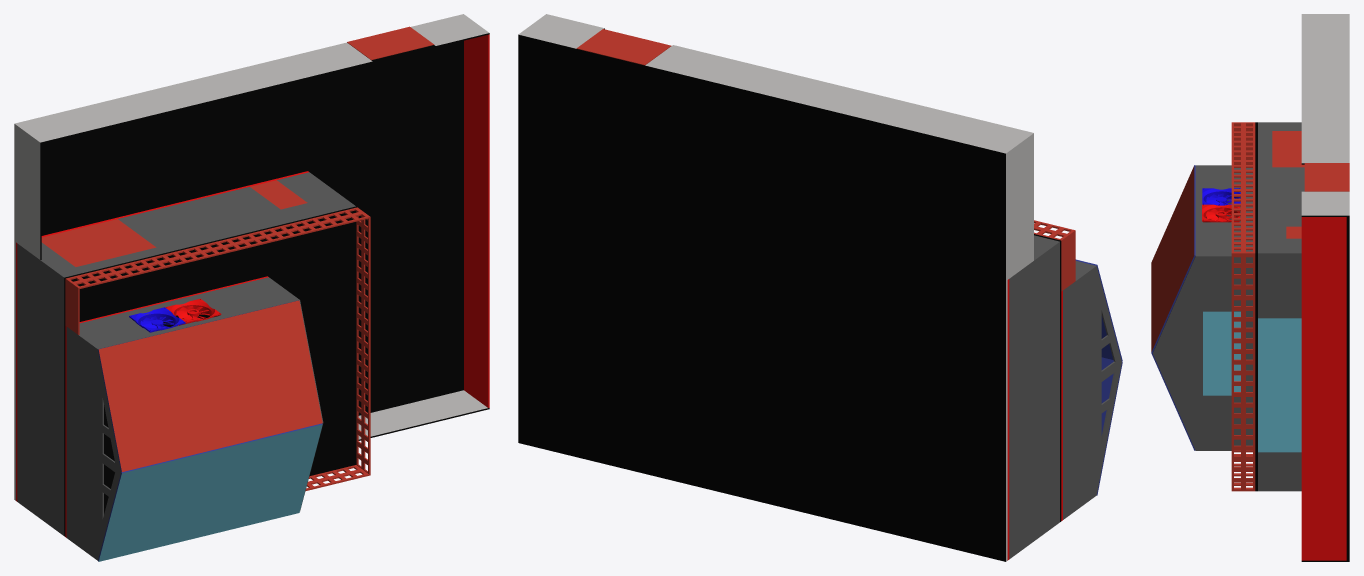
Rendered from smart+home+v2.obj.
3 views of the same model, side by side, from view 1: azimuth 30°, elevation 25°; view 2: azimuth 150°, elevation 25°; view 3: azimuth 270°, elevation 25° (orthographic). The views are drawn at different scales.
Parts seen in each view (by area): view 1: Body1:19, Body1:15, Body1:11, Body1:16, Body3, Body1:18, Body1:1, Body2:3, Body2:2, Body1:10, Body1:9, Body2 (+8 smaller); view 2: Body1:19, Body3, Body2:3, Body1:5, Body2:6, Body1:12, Body1:17; view 3: Body1:18, Body1:19, Body1:7, Body1:13, Body1:1, Body1:9, Body1:4, Body1:15, Body2:2, Body1:14, Body1:10, Body1:6 (+9 smaller).
Part boxes in pixels (x1,y1,x2,y2): Body1:19: [14, 14, 489, 500]; Body1:15: [98, 300, 322, 472]; Body1:11: [64, 206, 356, 536]; Body1:16: [98, 423, 322, 561]; Body3: [17, 243, 64, 535]; Body1:18: [464, 34, 489, 407]; Body1:1: [41, 172, 354, 277]; Body2:3: [66, 328, 97, 559]; Body2:2: [66, 277, 299, 350]; Body1:10: [65, 207, 368, 289]; Body1:9: [356, 207, 370, 475]; Body2: [41, 219, 156, 266]; Body1:19: [518, 14, 1033, 561]; Body3: [1009, 241, 1059, 559]; Body2:3: [1063, 267, 1096, 518]; Body1:5: [1096, 267, 1121, 494]; Body2:6: [576, 29, 671, 65]; Body1:12: [1007, 279, 1009, 560]; Body1:17: [1061, 232, 1075, 291]; Body1:18: [1301, 217, 1346, 560]; Body1:19: [1301, 14, 1349, 561]; Body1:7: [1195, 257, 1252, 449]; Body1:13: [1258, 318, 1301, 452]; Body1:1: [1258, 122, 1304, 252]; Body1:9: [1231, 252, 1255, 491]; Body1:4: [1152, 256, 1195, 449]; Body1:15: [1151, 165, 1195, 352]; Body2:2: [1195, 165, 1252, 257]; Body1:14: [1258, 252, 1301, 318]; Body1:10: [1231, 122, 1255, 252]; Body1:6: [1203, 311, 1240, 395].
Size of the model in its own units: 1000 by 802 by 415.
